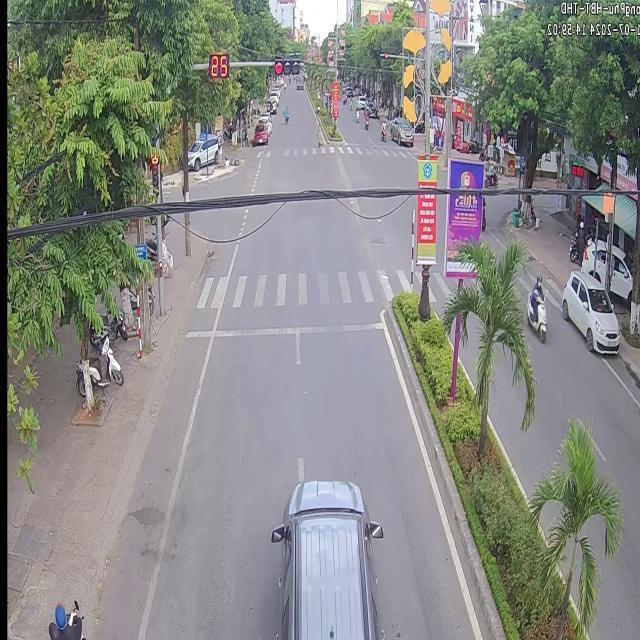car: (269, 478, 382, 638), (560, 269, 618, 354)
motobike: (526, 291, 546, 340)
red_light: (209, 51, 228, 80), (274, 57, 300, 75), (149, 152, 159, 194)
stop_line: (183, 319, 385, 336)
